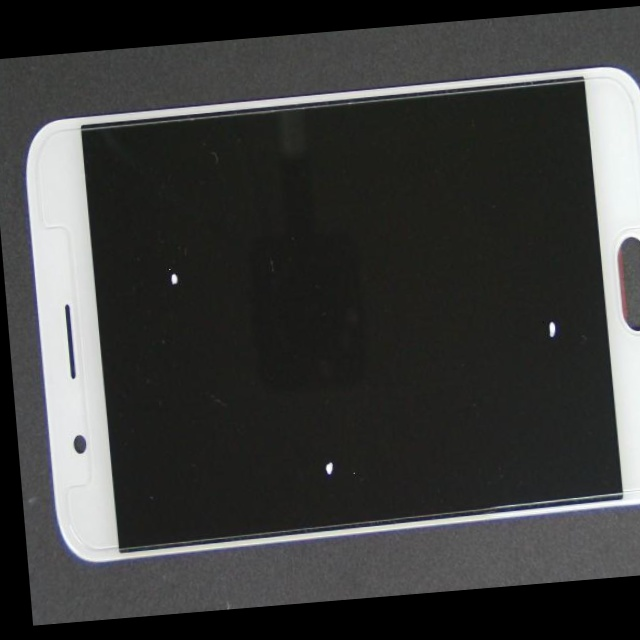stain: (224, 131, 640, 532), (172, 227, 492, 612), (69, 156, 233, 397)
